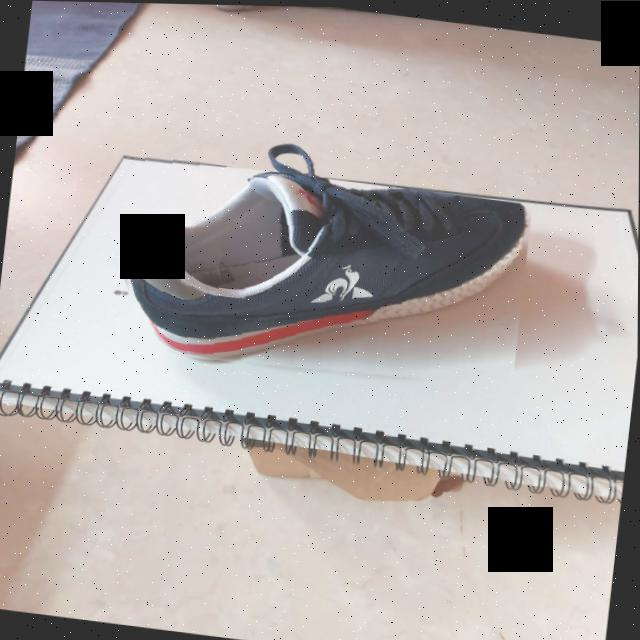shoe: (110, 152, 532, 399)
